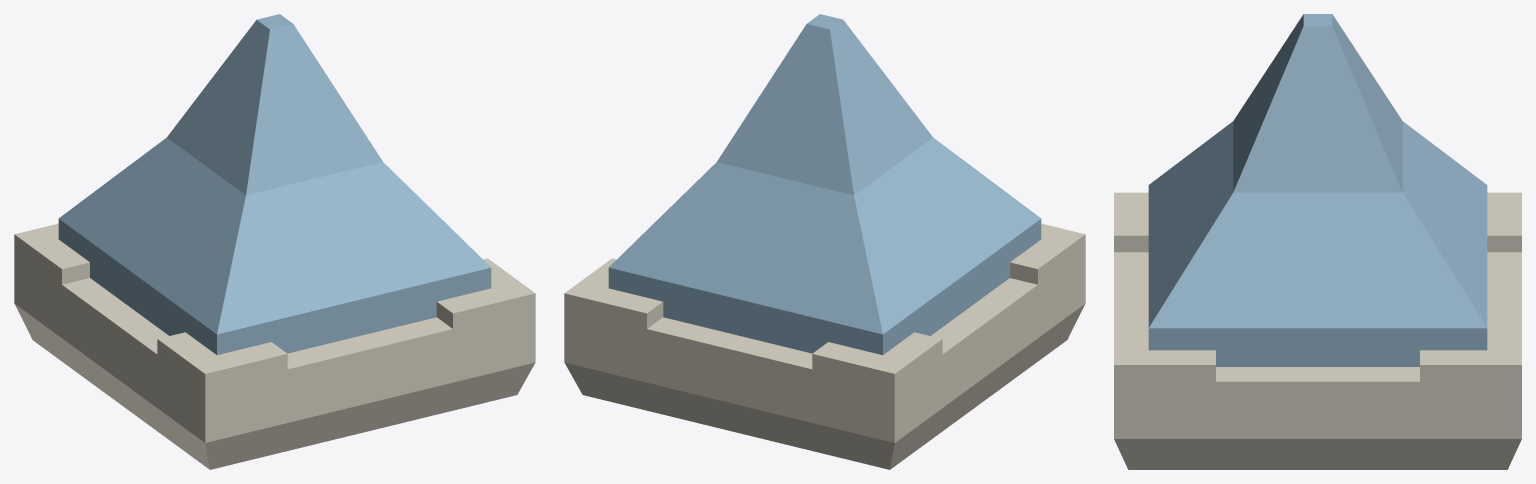
Rendered from towerSquareTopRoof.fbx.
3 renders of one model, left to right at view 1: azimuth 30°, elevation 25°; view 2: azimuth 150°, elevation 25°; view 3: azimuth 270°, elevation 25°, orthographic. The views are drawn at different scales.
Visible parts, largest first — view 1: towerSquareTopRoof, towerSquareTopRoof_cell, towerSquareTopRoof_cell.007, towerSquareTopRoof_cell.004, towerSquareTopRoof_cell.003, towerSquareTopRoof_cell.002, towerSquareTopRoof_cell.001, towerSquareTopRoof_cell.005; view 2: towerSquareTopRoof, towerSquareTopRoof_cell.001, towerSquareTopRoof_cell.003, towerSquareTopRoof_cell.002, towerSquareTopRoof_cell.005, towerSquareTopRoof_cell.006; view 3: towerSquareTopRoof, towerSquareTopRoof_cell.005, towerSquareTopRoof_cell.001, towerSquareTopRoof_cell, towerSquareTopRoof_cell.004.
Part boxes in pixels (bbox=[...]): towerSquareTopRoof: bbox=[14, 19, 535, 469]; towerSquareTopRoof_cell: bbox=[219, 45, 380, 287]; towerSquareTopRoof_cell.007: bbox=[205, 313, 410, 469]; towerSquareTopRoof_cell.004: bbox=[381, 269, 535, 421]; towerSquareTopRoof_cell.003: bbox=[14, 219, 125, 356]; towerSquareTopRoof_cell.002: bbox=[14, 257, 103, 391]; towerSquareTopRoof_cell.001: bbox=[126, 14, 286, 260]; towerSquareTopRoof_cell.005: bbox=[483, 259, 531, 403]; towerSquareTopRoof: bbox=[564, 14, 1085, 469]; towerSquareTopRoof_cell.001: bbox=[647, 19, 945, 327]; towerSquareTopRoof_cell.003: bbox=[677, 273, 972, 419]; towerSquareTopRoof_cell.002: bbox=[731, 396, 966, 469]; towerSquareTopRoof_cell.005: bbox=[564, 267, 628, 400]; towerSquareTopRoof_cell.006: bbox=[1010, 235, 1085, 302]; towerSquareTopRoof: bbox=[1114, 14, 1521, 469]; towerSquareTopRoof_cell.005: bbox=[1120, 212, 1521, 469]; towerSquareTopRoof_cell.001: bbox=[1318, 14, 1474, 308]; towerSquareTopRoof_cell: bbox=[1168, 30, 1317, 242]; towerSquareTopRoof_cell.004: bbox=[1114, 328, 1199, 424].
Size of the model in its own units: 1000 by 1000 by 1000.
